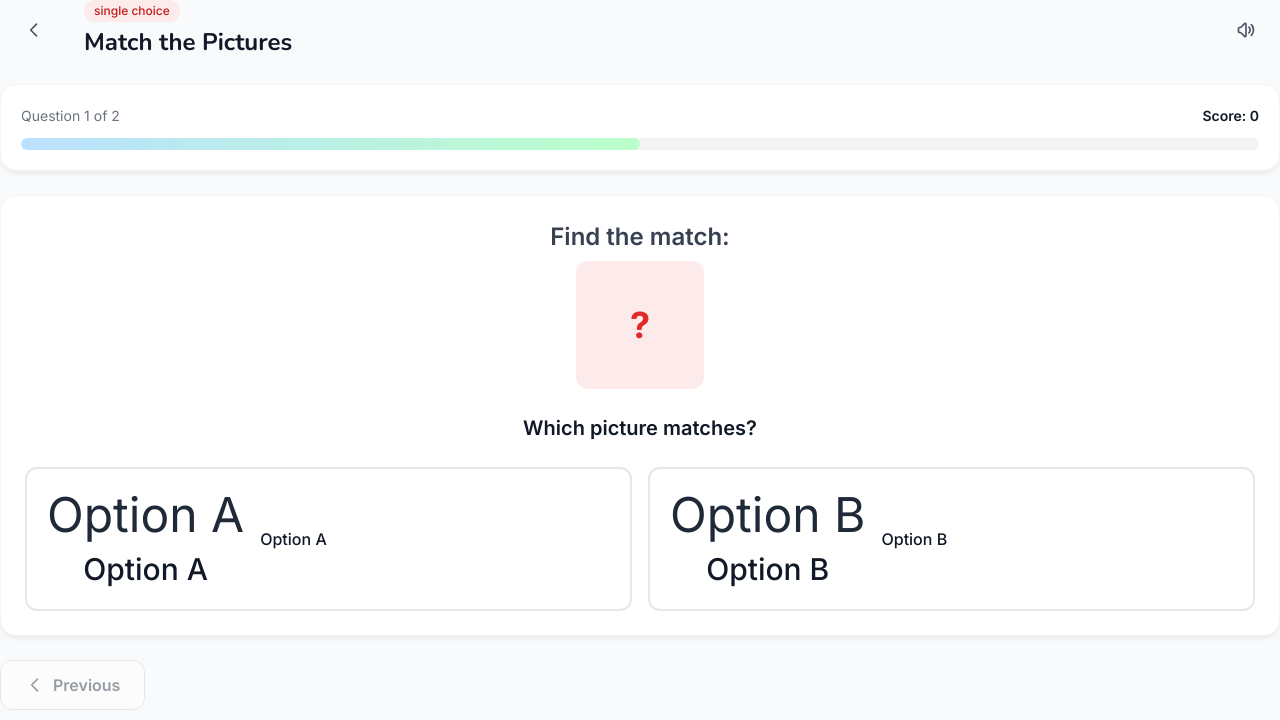
Test: ActivityPage — Recommendation Integration › No recommendation available › displays friendly no-more-activities message when activity_id is null
Click the button "Option A Option A Option A": (328,539) [25,467,632,611]
(page scrolled)
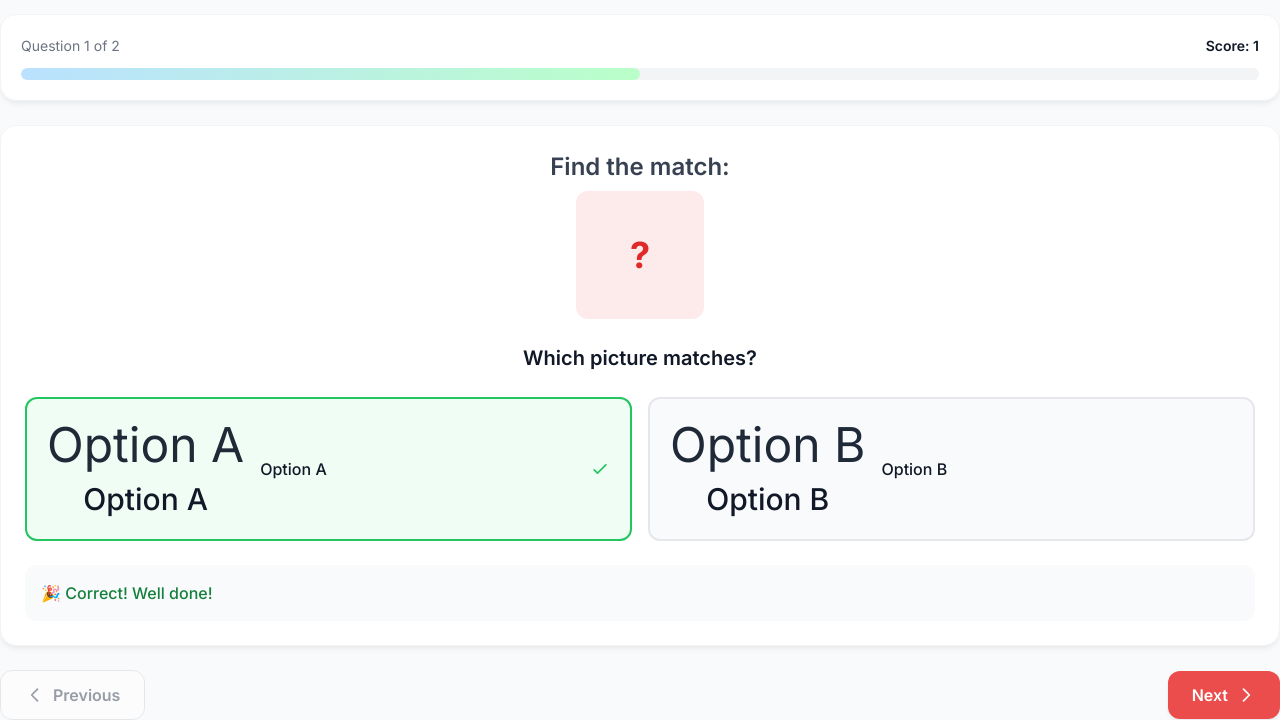
Expected: the text "🎉 Correct! Well done!" is shown, [41,583,212,603]
Click the button "Next": (1224,695) [1168,671,1279,719]
(page scrolled)
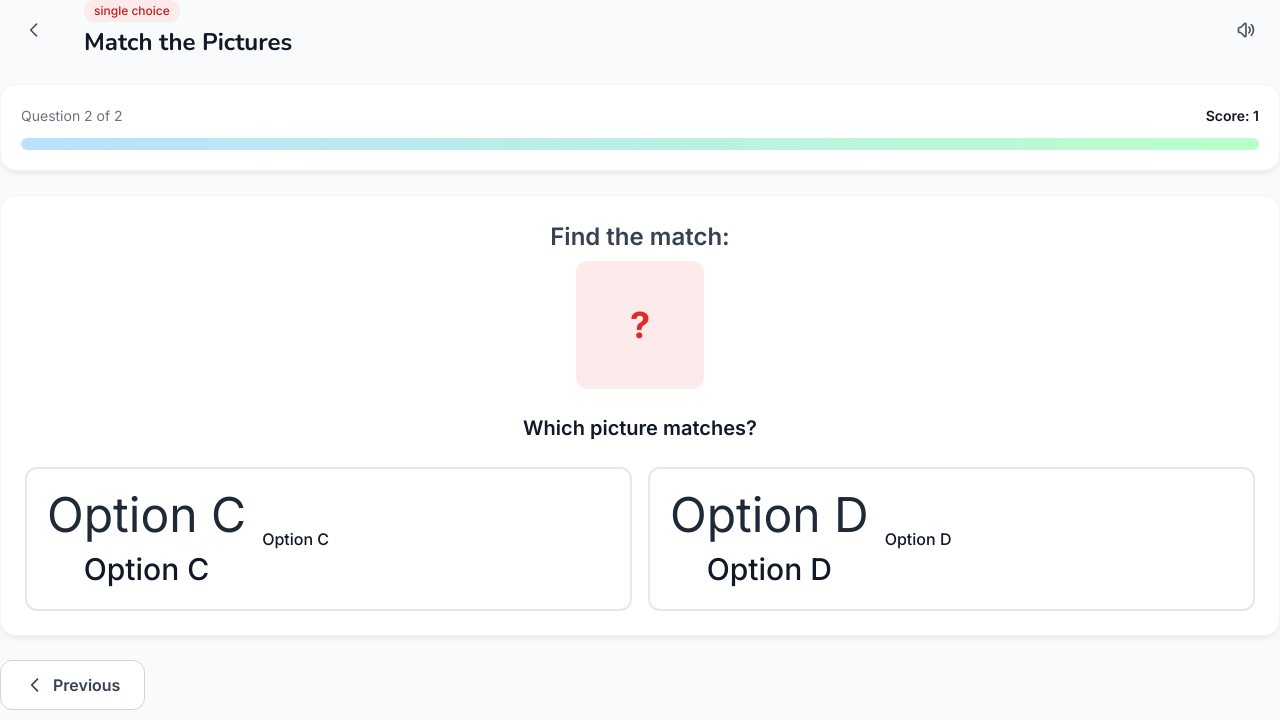
Click the button "Option C Option C Option C": (328,539) [25,467,632,611]
(page scrolled)
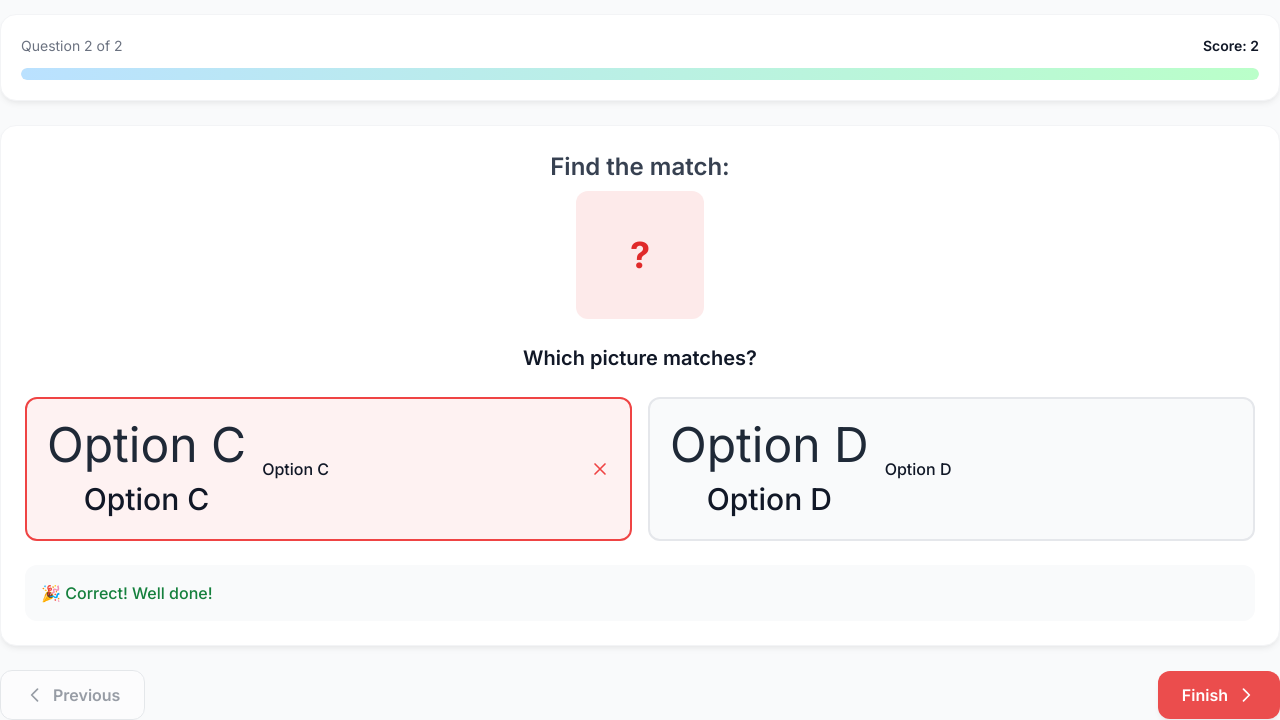
Expected: the text "🎉 Correct! Well done!" is shown, [41,583,212,603]
Expected: the button "Finish" is shown
Click the button "Finish": (1219,695) [1158,671,1279,719]
(page scrolled)
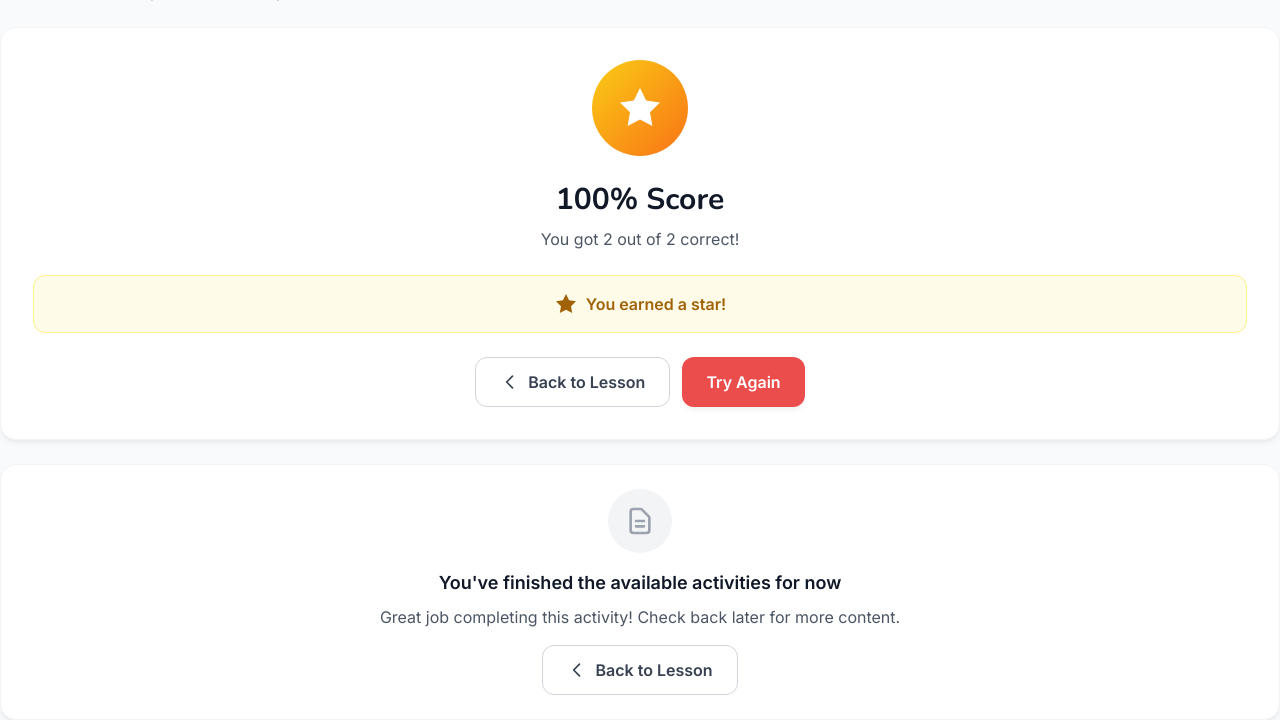
Expected: the heading "You've finished the available activities for now" is shown, [439,572,841,593]
